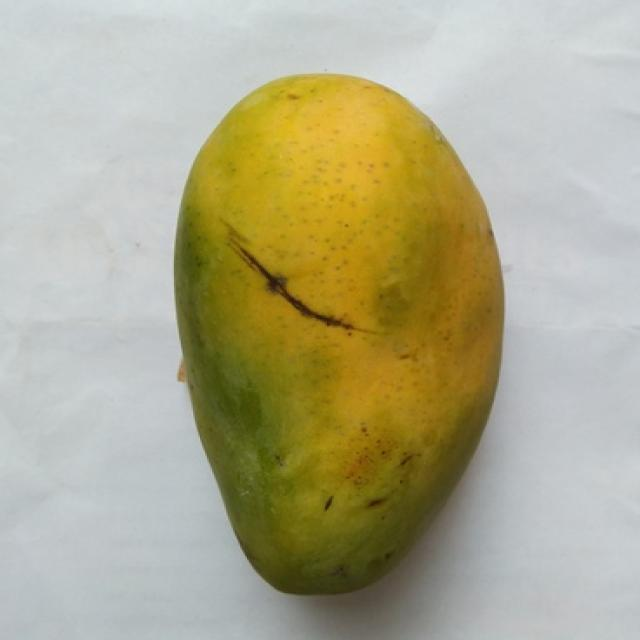Mango: (176, 76, 503, 592)
